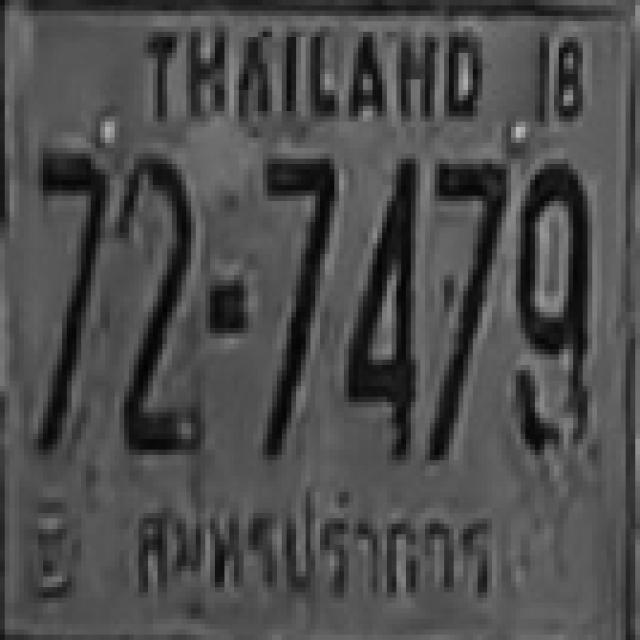0: (511, 161, 588, 352)
7: (430, 159, 506, 328), (263, 154, 334, 318), (41, 148, 108, 317)
SamutPrakan: (120, 475, 508, 625)
